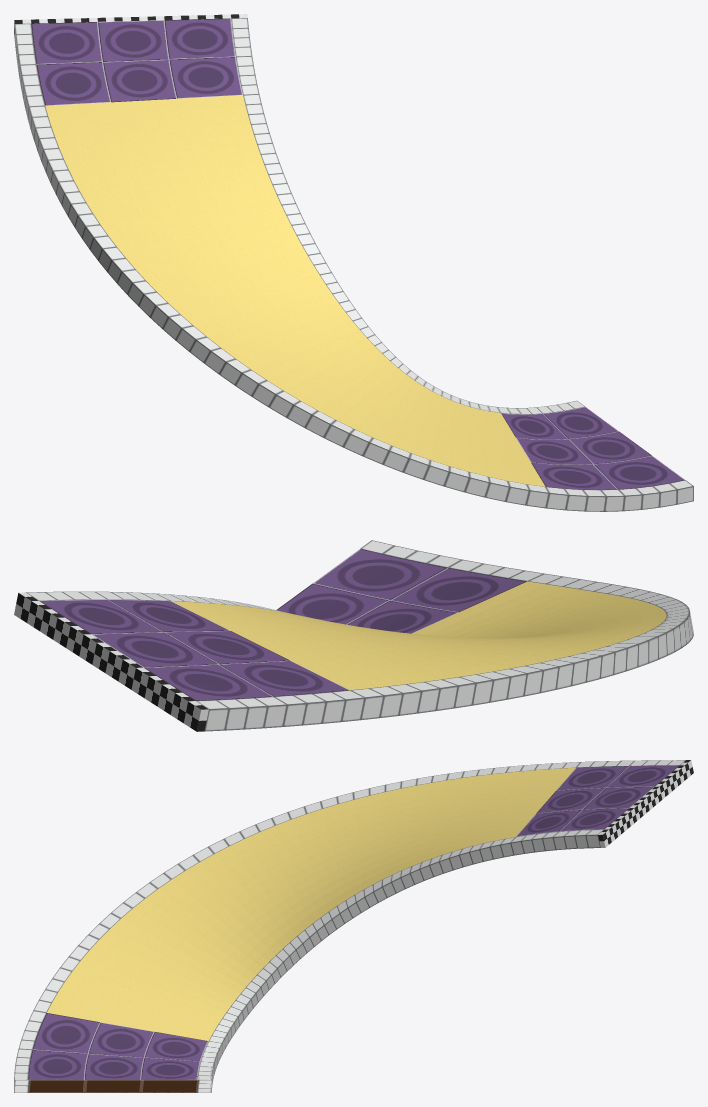
Rendered from NonLinearCurve3.obj.
The picture shows the model from 3 angles, top to bottom: view 1: azimuth 30°, elevation 25°; view 2: azimuth 150°, elevation 25°; view 3: azimuth 270°, elevation 25°; orthographic projection. The views are drawn at different scales.
Parts seen in each view (by area): view 1: Cube.005; view 2: Cube.005; view 3: Cube.005.
Part boxes in pixels (box(x1,y1,x2,y2)): Cube.005: box(14, 14, 693, 511); Cube.005: box(14, 540, 693, 731); Cube.005: box(14, 760, 693, 1092).
Bounding box in the file's own units: 12.93 × 8.49 × 24.07.
